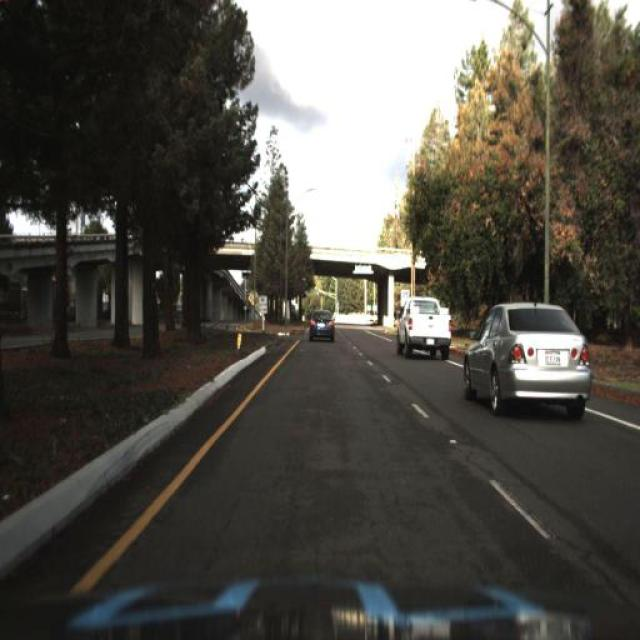car: (460, 292, 600, 423), (392, 282, 458, 373), (299, 296, 342, 350)
